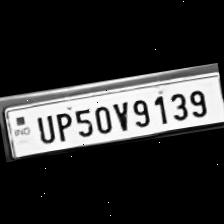0: (89, 99, 114, 134)
1: (149, 90, 171, 124)
3: (166, 88, 190, 122)
5: (69, 102, 94, 138)
9: (126, 93, 152, 128), (184, 83, 210, 118)
P: (50, 108, 75, 142)
U: (31, 109, 56, 145)
V: (109, 96, 132, 132)
